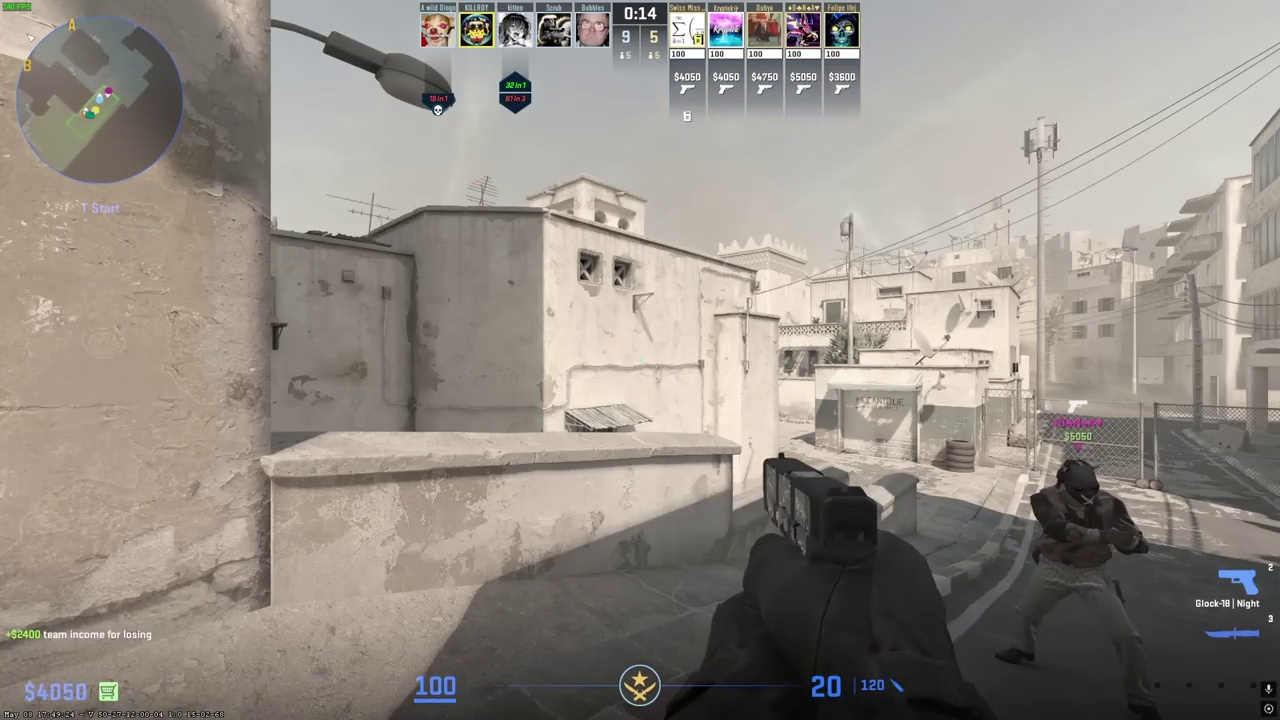Terrorist: (1012, 460, 1154, 718)
